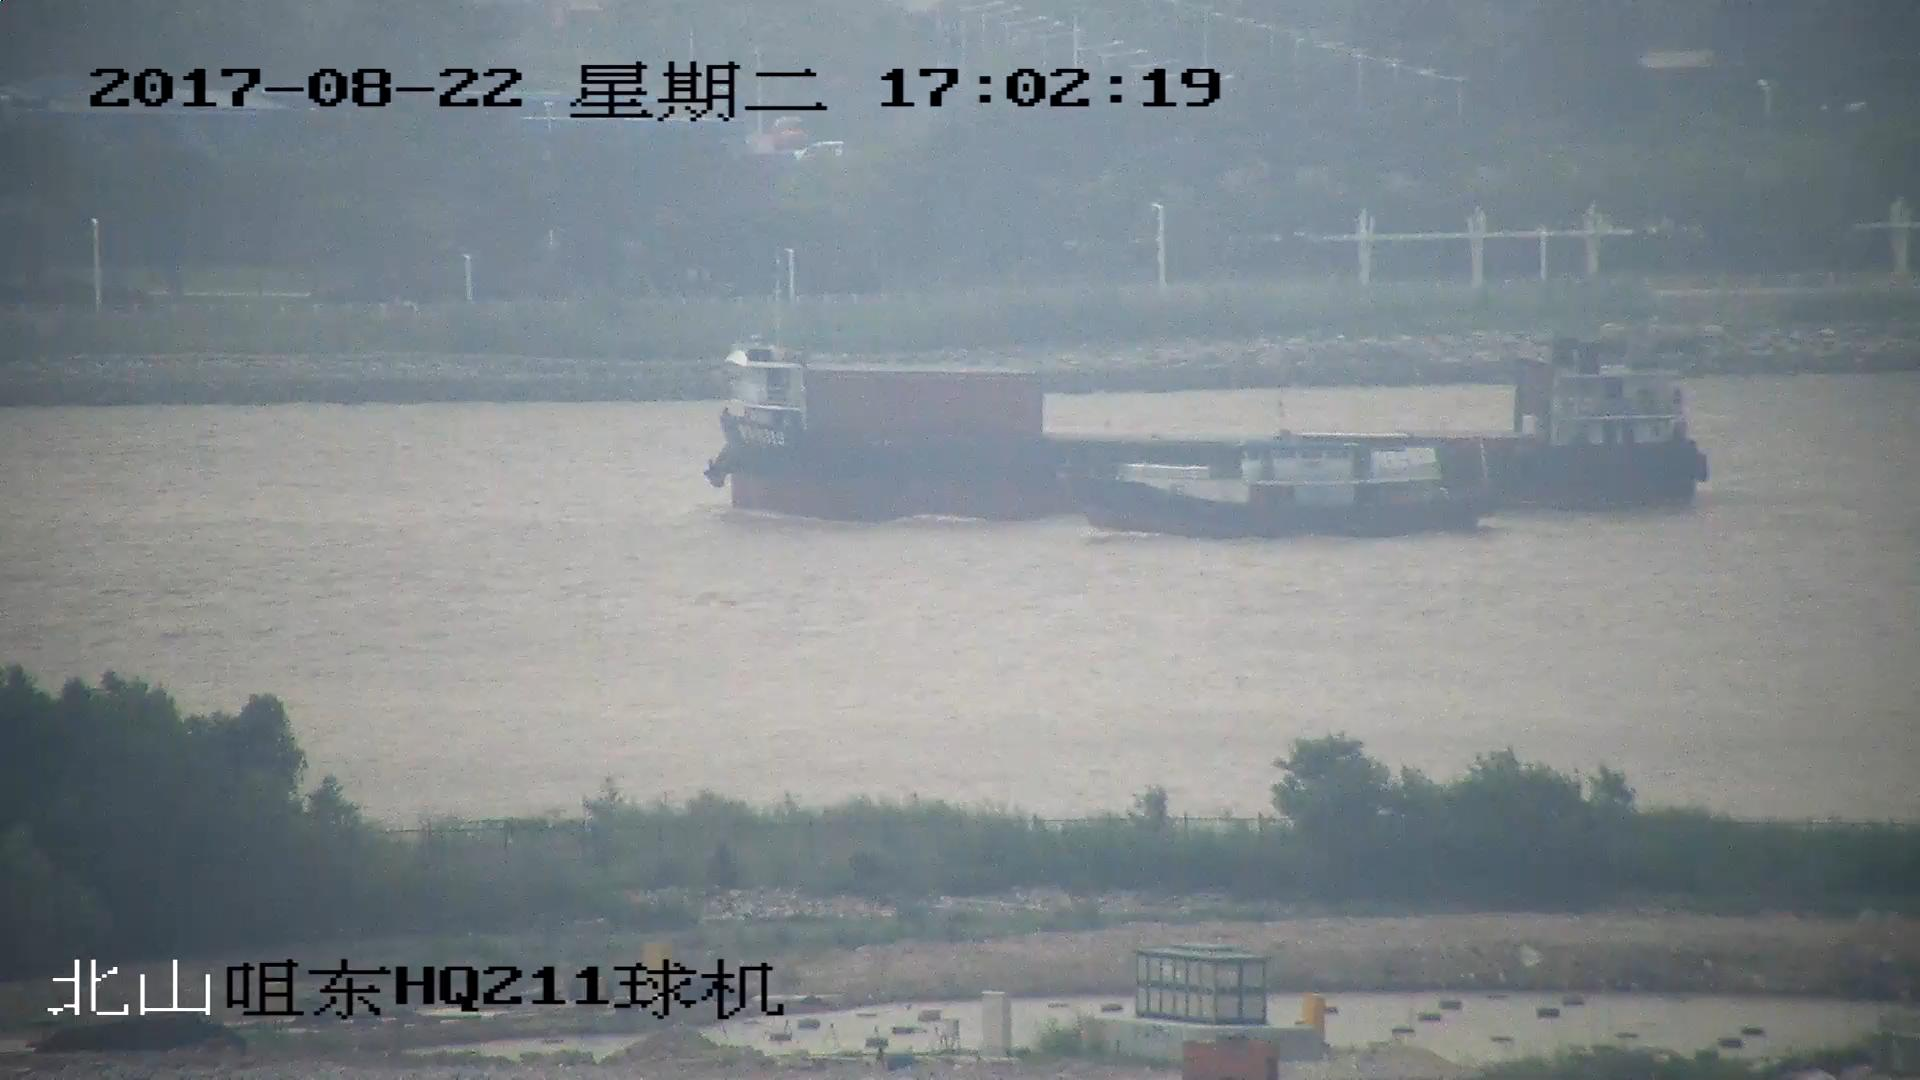fishing boat: (1080, 431, 1484, 544)
general cargo ship: (710, 327, 1714, 518)
